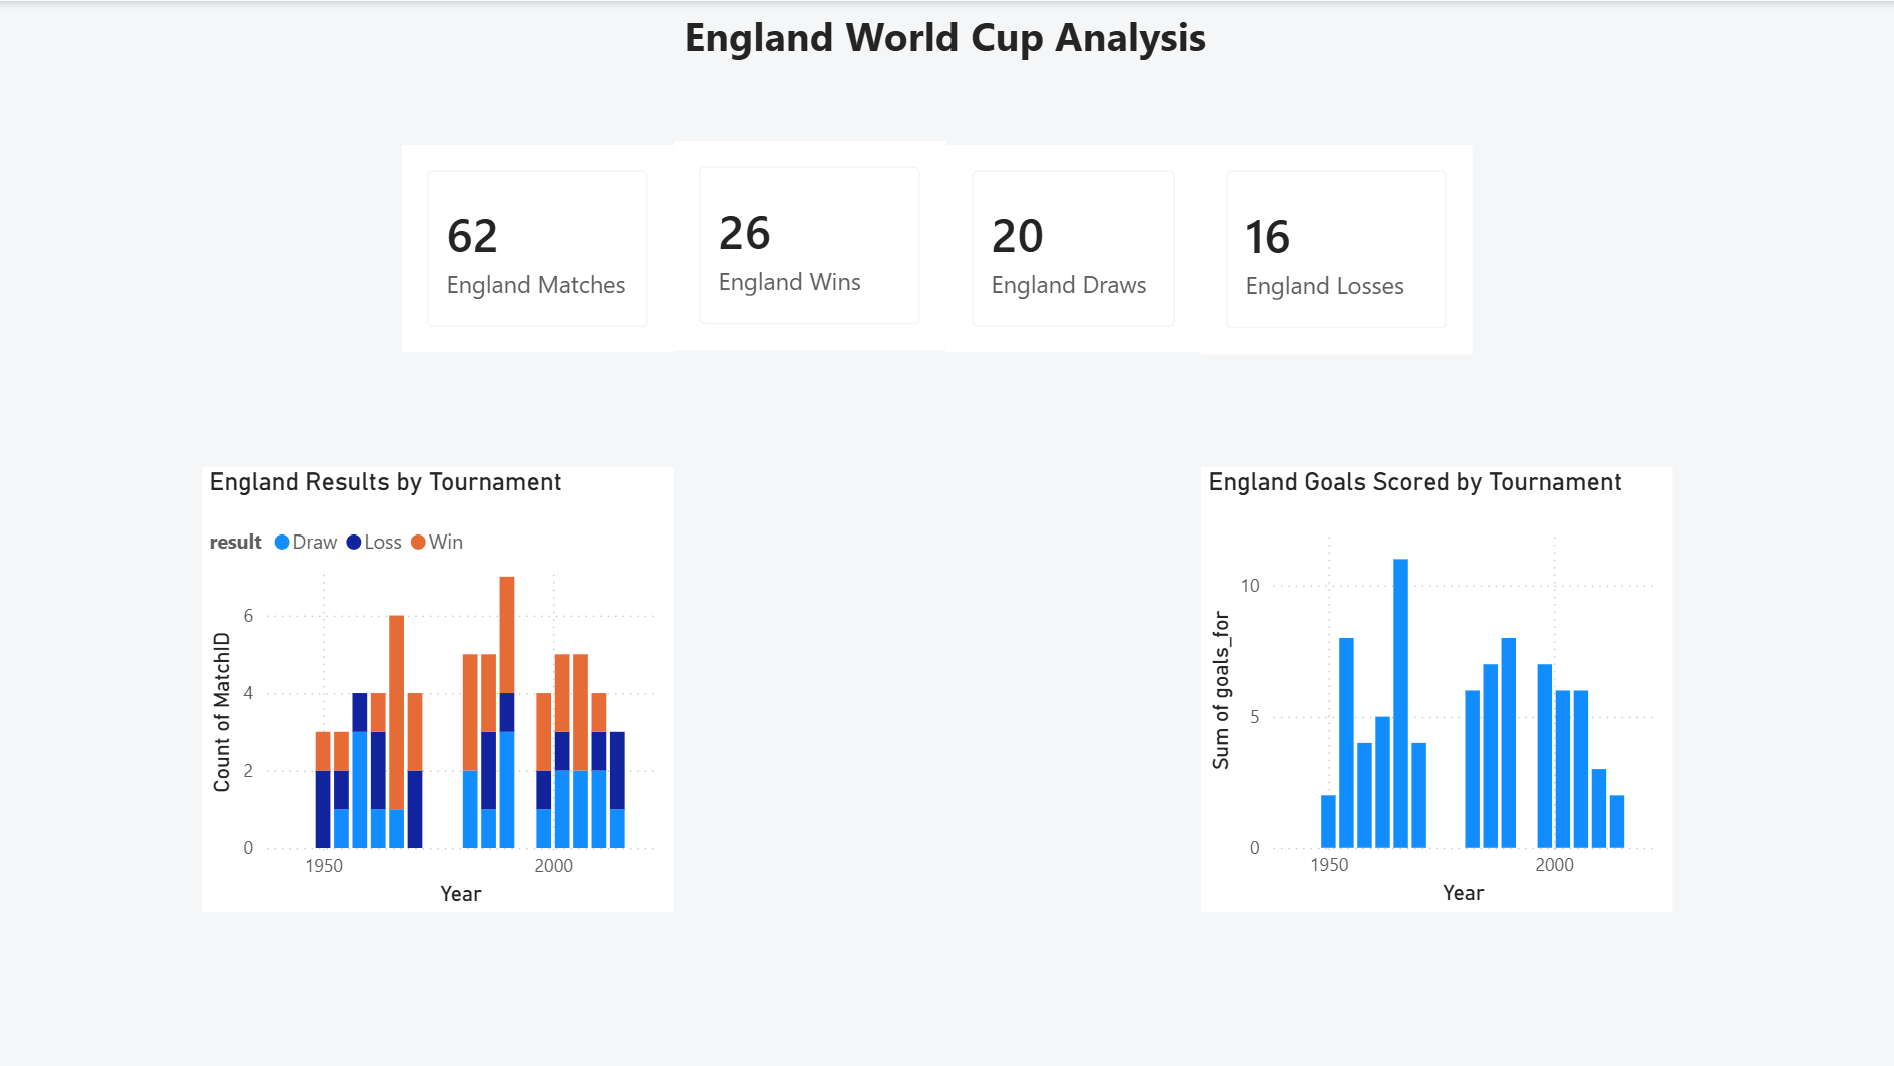

The dashboard page shown, as its layout file describes it:
{"tool":"powerbi","page":{"name":"England Analysis","canvas":[1280,720],"ordinal":2},"visuals":[{"type":"textbox","box":[423.3,0,433.3,123.3],"z":0},{"type":"cardVisual","fields":{"Data":["vw_EnglandMatches.England Matches"]},"box":[273.3,96.7,183.3,140],"z":1000},{"type":"cardVisual","fields":{"Data":["vw_EnglandMatches.England Wins"]},"box":[456.7,95,183.3,141.7],"z":2000},{"type":"cardVisual","fields":{"Data":["vw_EnglandMatches.England Draws"]},"box":[640,96.7,171.7,140],"z":3000},{"type":"cardVisual","fields":{"Data":["vw_EnglandMatches.England Losses"]},"box":[811.7,96.7,183.3,141.7],"z":4000},{"type":"columnChart","title":"England Results by Tournament","fields":{"Category":["vw_EnglandMatches.Year"],"Y":["CountNonNull(vw_EnglandMatches.MatchID)"],"Series":["vw_EnglandMatches.result"]},"box":[138.3,315,318.3,300],"z":5000},{"type":"columnChart","title":"England Goals Scored by Tournament","fields":{"Category":["vw_EnglandMatches.Year"],"Y":["Sum(vw_EnglandMatches.goals_for)"]},"box":[811.7,315,318.3,300],"z":6000}]}

Visuals, with their boxes in screenshot pixels (x1, y1, x2, y2), scaled from the page's 1280x720 canvas onto the 1894x1066 screenshot:
textbox: pyautogui.locateOnScreen(626, 0, 1268, 183)
cardVisual - vw_EnglandMatches.England Matches: pyautogui.locateOnScreen(404, 143, 676, 350)
cardVisual - vw_EnglandMatches.England Wins: pyautogui.locateOnScreen(676, 141, 947, 350)
cardVisual - vw_EnglandMatches.England Draws: pyautogui.locateOnScreen(947, 143, 1201, 350)
cardVisual - vw_EnglandMatches.England Losses: pyautogui.locateOnScreen(1201, 143, 1472, 353)
"England Results by Tournament" columnChart: pyautogui.locateOnScreen(205, 466, 676, 911)
"England Goals Scored by Tournament" columnChart: pyautogui.locateOnScreen(1201, 466, 1672, 911)
